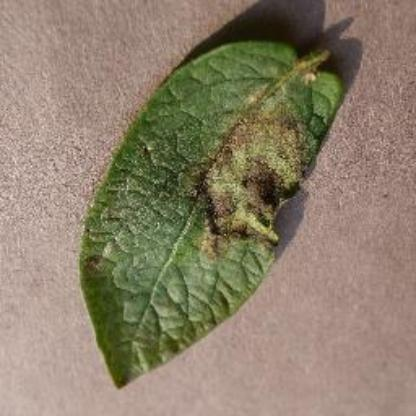Late-Blight: (25, 23, 415, 408)
